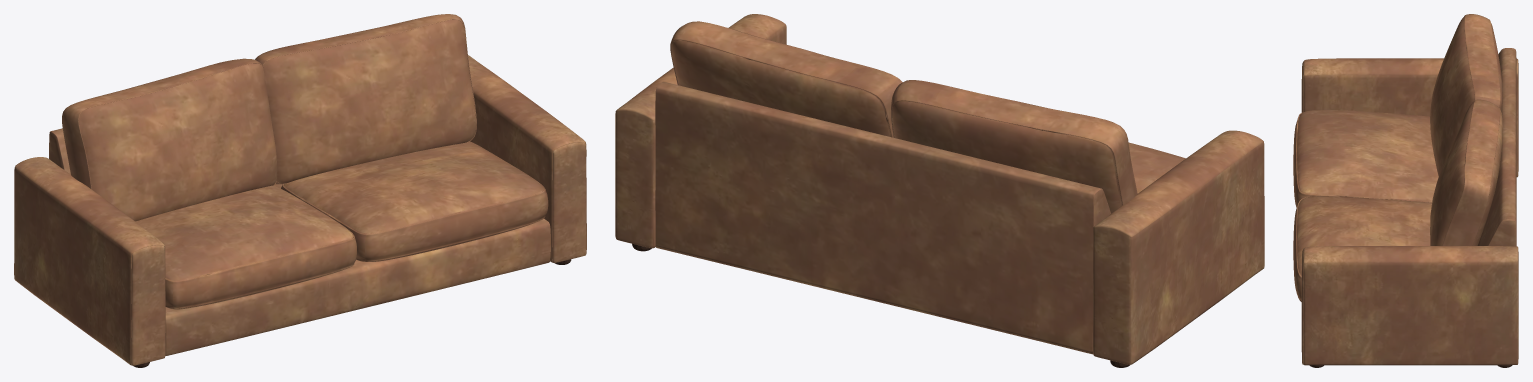
File: B07QBMQJWF.glb
3 renders of one model, left to right at view 1: azimuth 30°, elevation 25°; view 2: azimuth 150°, elevation 25°; view 3: azimuth 270°, elevation 25°, orthographic. The views are drawn at different scales.
Visible parts, largest first — view 1: RootNode; view 2: RootNode; view 3: RootNode.
Part boxes in pixels (box(x1,y1,x2,y2)): RootNode: box(14, 14, 586, 367); RootNode: box(615, 14, 1264, 367); RootNode: box(1293, 14, 1518, 367).
Size of the model in its own units: 2.18 by 0.8729 by 1.02.
1 material, 1 textured.
